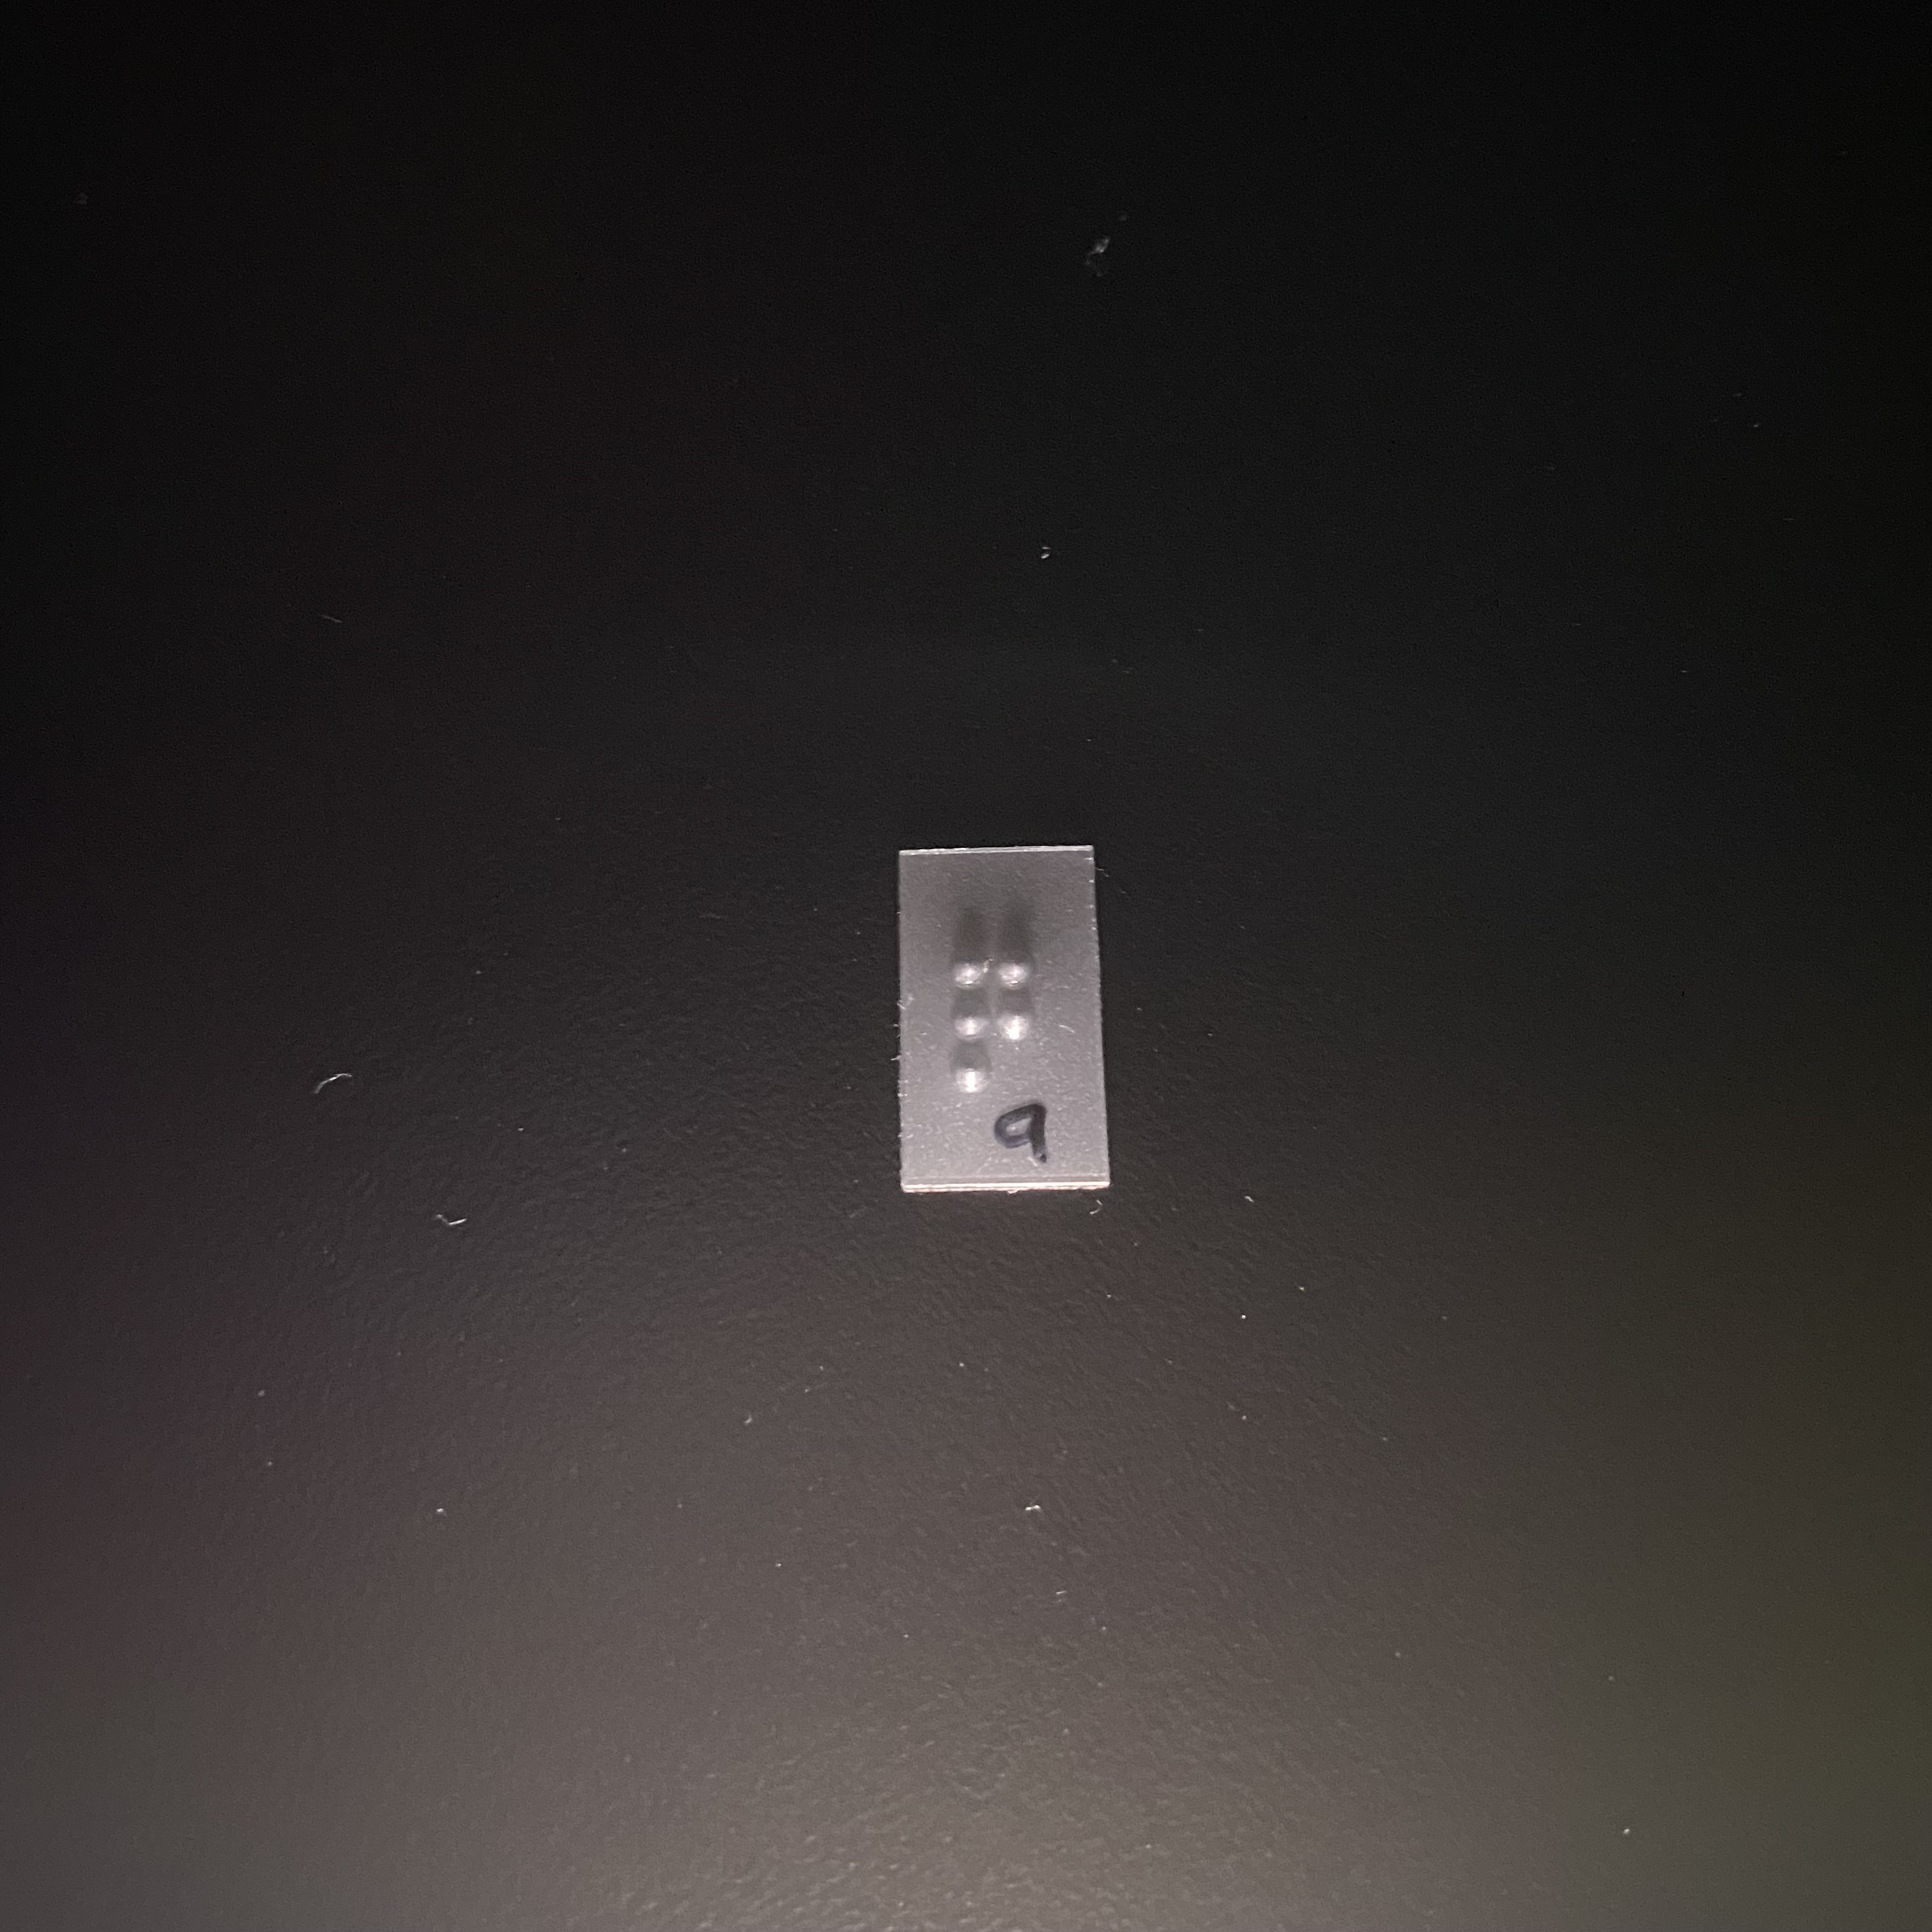q: (937, 914, 1060, 1115)
